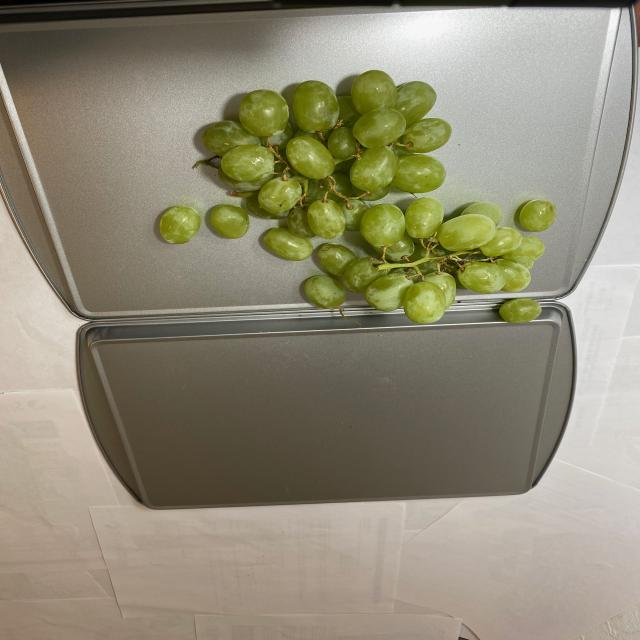grapes: (158, 79, 566, 320)
